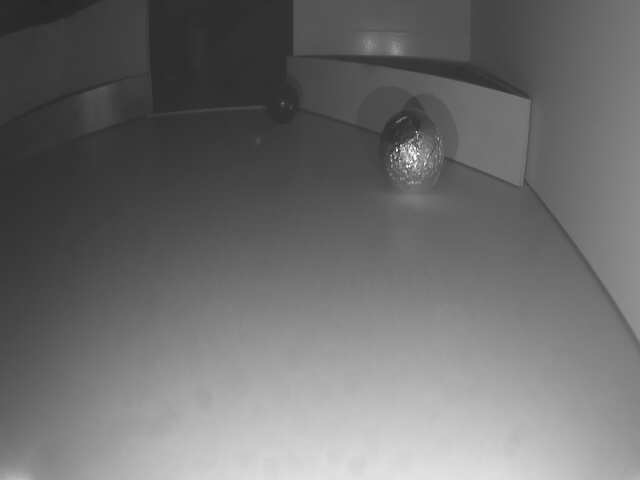Dead: (266, 83, 300, 123)
Green: (0, 74, 153, 172)
Live: (377, 109, 445, 193)
Red: (283, 57, 532, 189)
